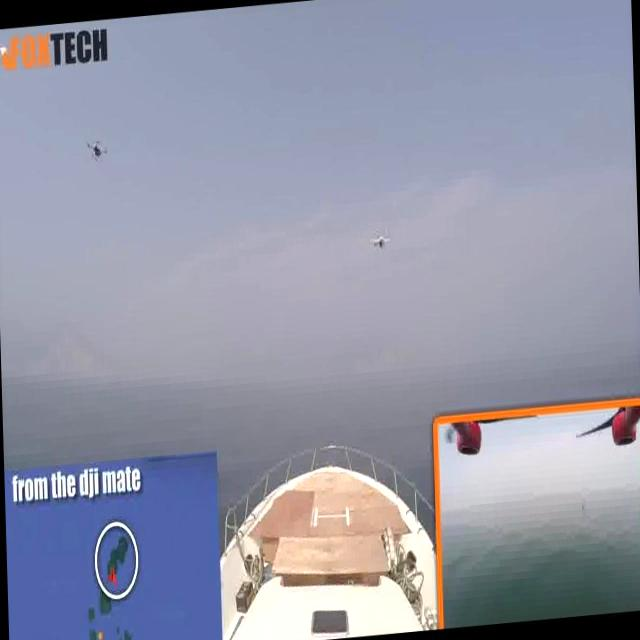drone: (363, 219, 403, 258), (83, 134, 115, 168)
